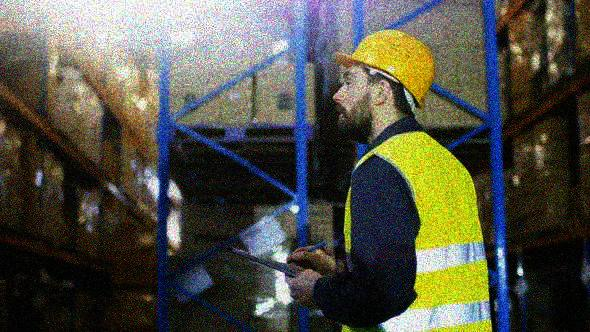helmet: (330, 28, 438, 134)
